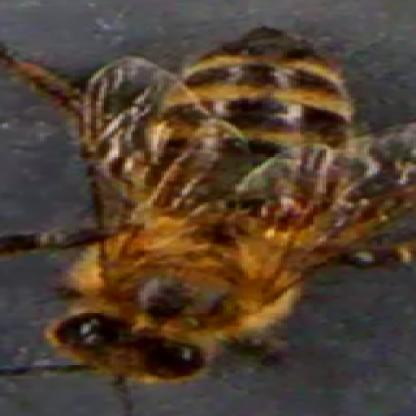bee: (71, 28, 349, 384)
vaoora: (267, 196, 309, 225)
